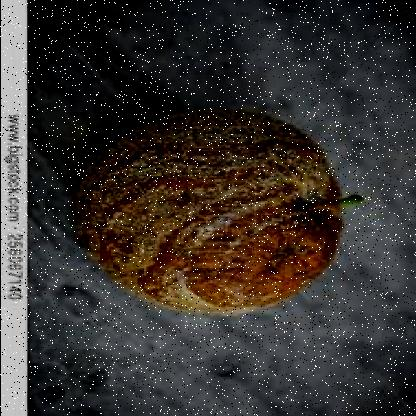damaged_apple: (81, 110, 337, 317)
